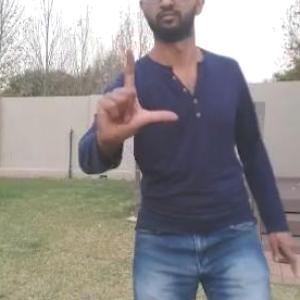land_hand: (92, 38, 186, 153)
